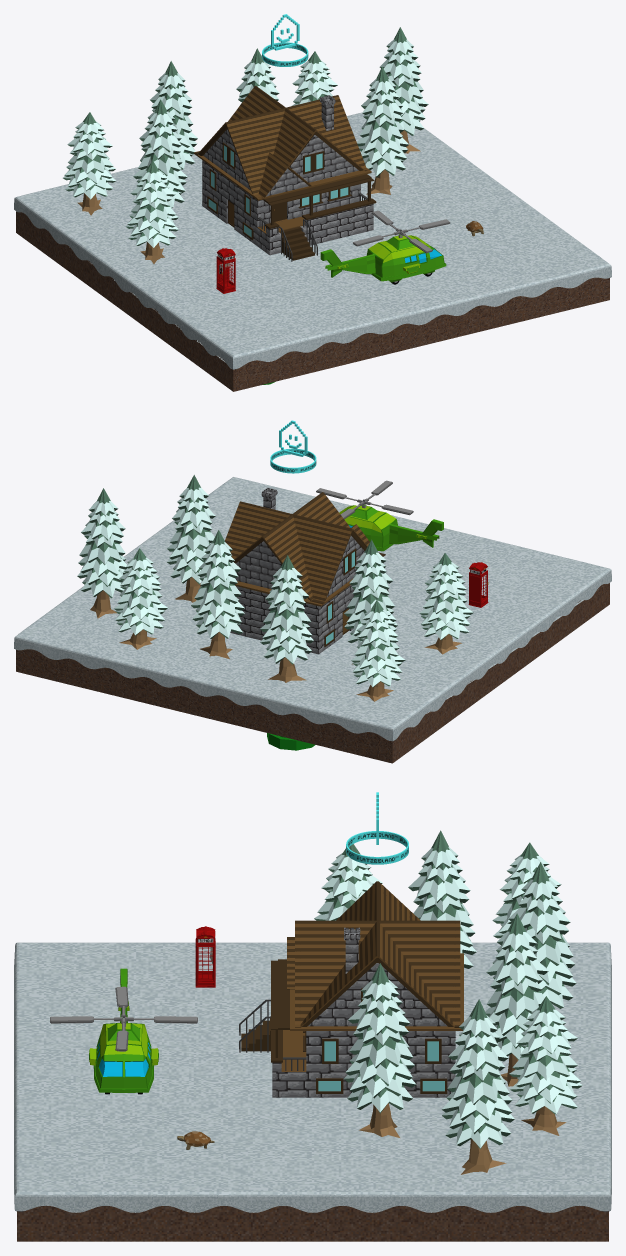
3 renders of one model, top to bottom at view 1: azimuth 30°, elevation 25°; view 2: azimuth 150°, elevation 25°; view 3: azimuth 270°, elevation 25°, orthographic. The views are drawn at different scales.
Visible parts, largest first — view 1: Cube.003, Cube.586, VEHICLES_HELICOPTER, TYPE_PREMIUM, OBJRANDOM_PHONEBOOTH; view 2: Cube.003, Cube.586, VEHICLES_HELICOPTER, TYPE_PREMIUM, OBJRANDOM_PHONEBOOTH, UNDERGROUND_PIPES; view 3: Cube.003, Cube.586, VEHICLES_HELICOPTER, TYPE_PREMIUM, OBJRANDOM_PHONEBOOTH.
Part boxes in pixels (x1=…): Cube.003: x1=14, y1=27, x2=611, y2=391; Cube.586: x1=194, y1=85, x2=376, y2=261; VEHICLES_HELICOPTER: x1=320, y1=210, x2=450, y2=284; TYPE_PREMIUM: x1=262, y1=14, x2=308, y2=66; OBJRANDOM_PHONEBOOTH: x1=216, y1=248, x2=235, y2=293; Cube.003: x1=14, y1=475, x2=611, y2=763; Cube.586: x1=225, y1=488, x2=388, y2=654; VEHICLES_HELICOPTER: x1=316, y1=480, x2=443, y2=551; TYPE_PREMIUM: x1=270, y1=420, x2=316, y2=473; OBJRANDOM_PHONEBOOTH: x1=468, y1=562, x2=488, y2=607; UNDERGROUND_PIPES: x1=267, y1=733, x2=315, y2=750; Cube.003: x1=14, y1=830, x2=611, y2=1241; Cube.586: x1=239, y1=881, x2=463, y2=1097; VEHICLES_HELICOPTER: x1=50, y1=968, x2=197, y2=1094; TYPE_PREMIUM: x1=346, y1=792, x2=408, y2=864; OBJRANDOM_PHONEBOOTH: x1=195, y1=926, x2=215, y2=987.
Size of the model in its own units: 4040 by 3051 by 4040.
Materials: 39 (5 with a texture image).
